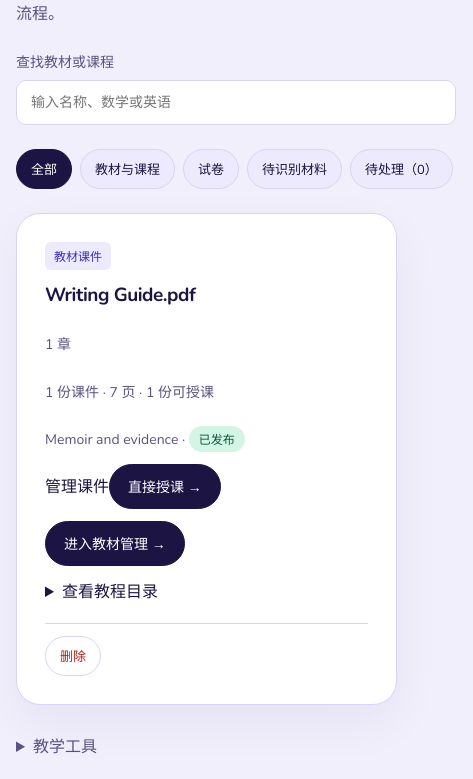
Scenario: user Given a 773-page textbook with one seven-page published courseware and a draft chapter When opening the library Then the lesson is teachable and the book r
(page scrolled)
Expected: the text "1 份课件 · 7 页 · 1 份可授课" is shown, [45,383,214,402]
Expected: the text "已发布" is shown, [189,426,245,452]
Click the heading "查看教程目录" at (110, 592), box [62,581,158,603]
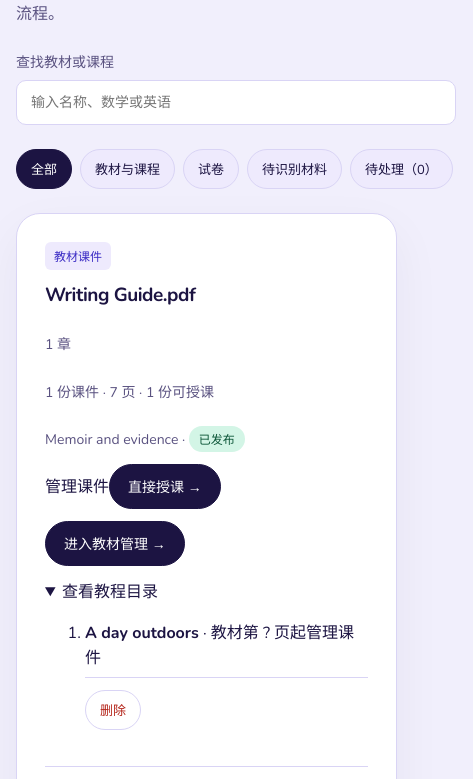
Expected: the text "A day outdoors" is shown, [85,622,199,644]
